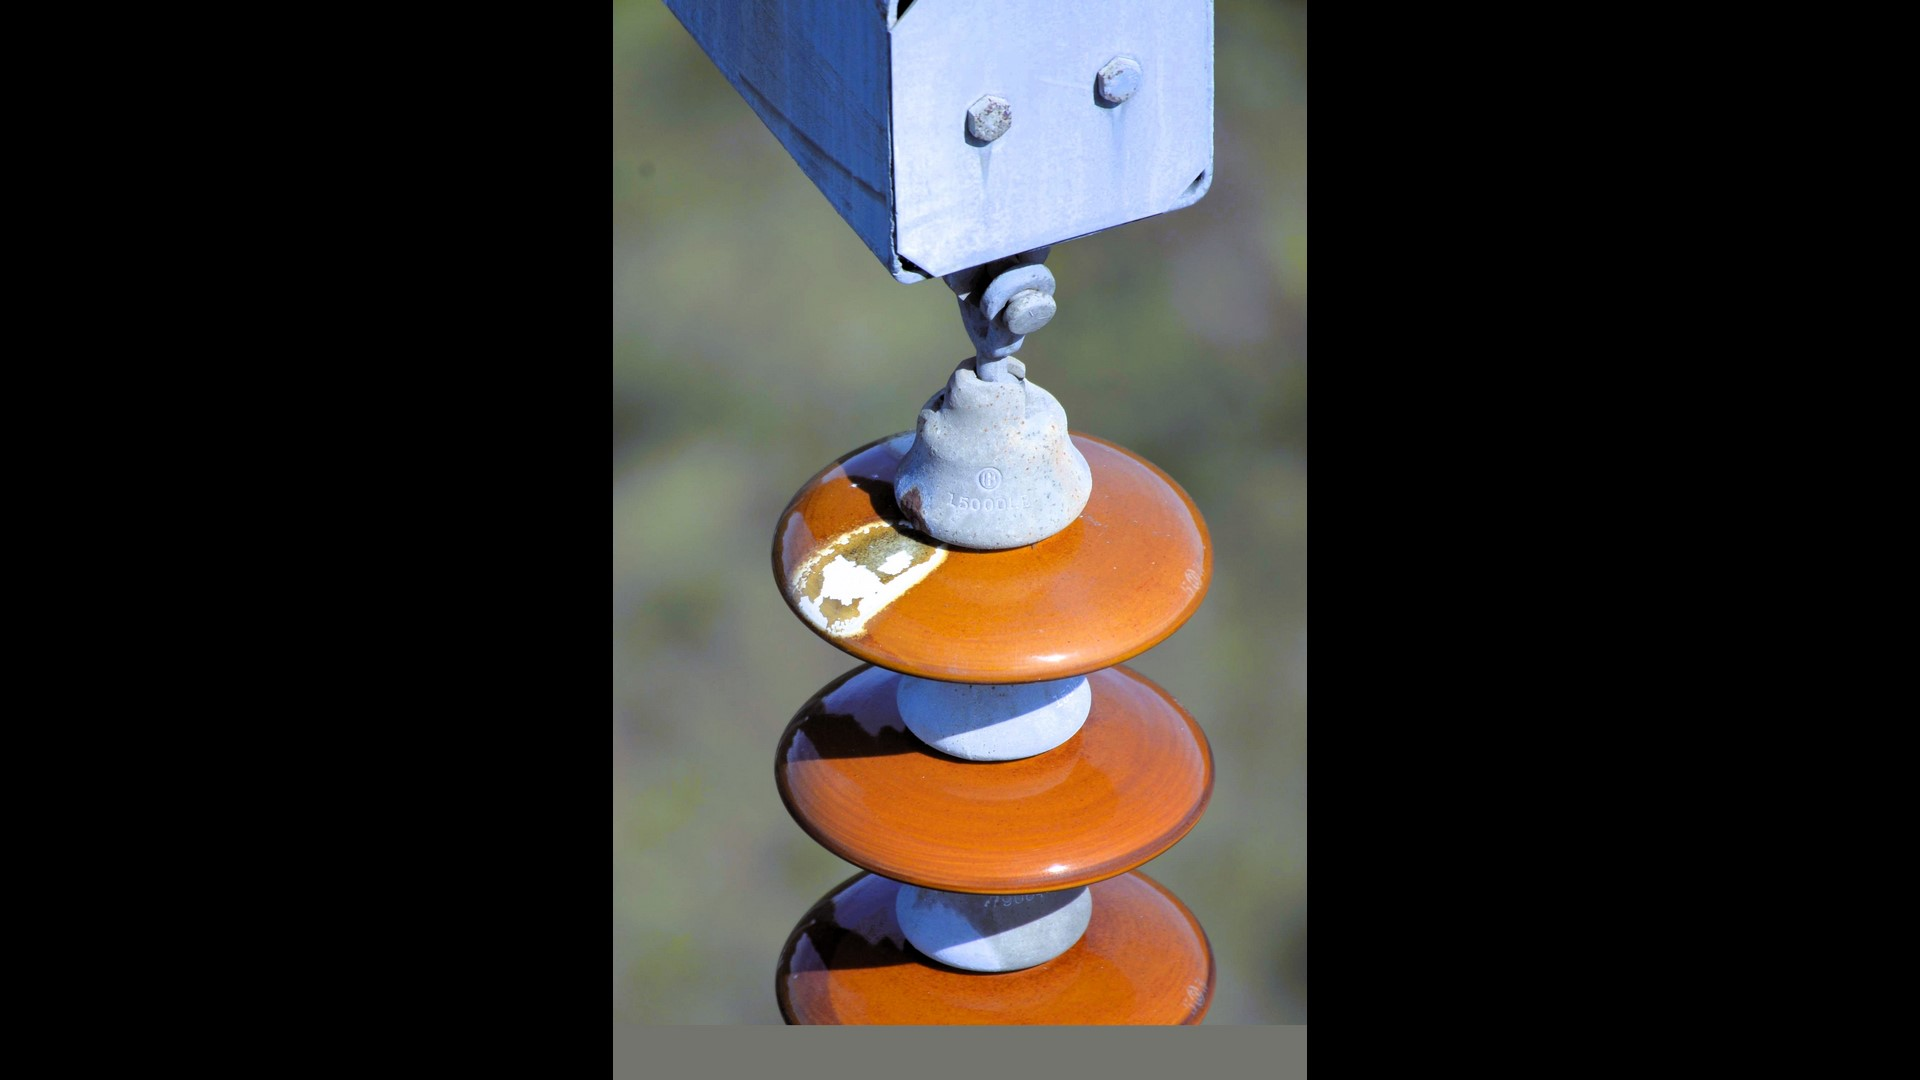Insulator flashover: (767, 413, 1224, 691)
